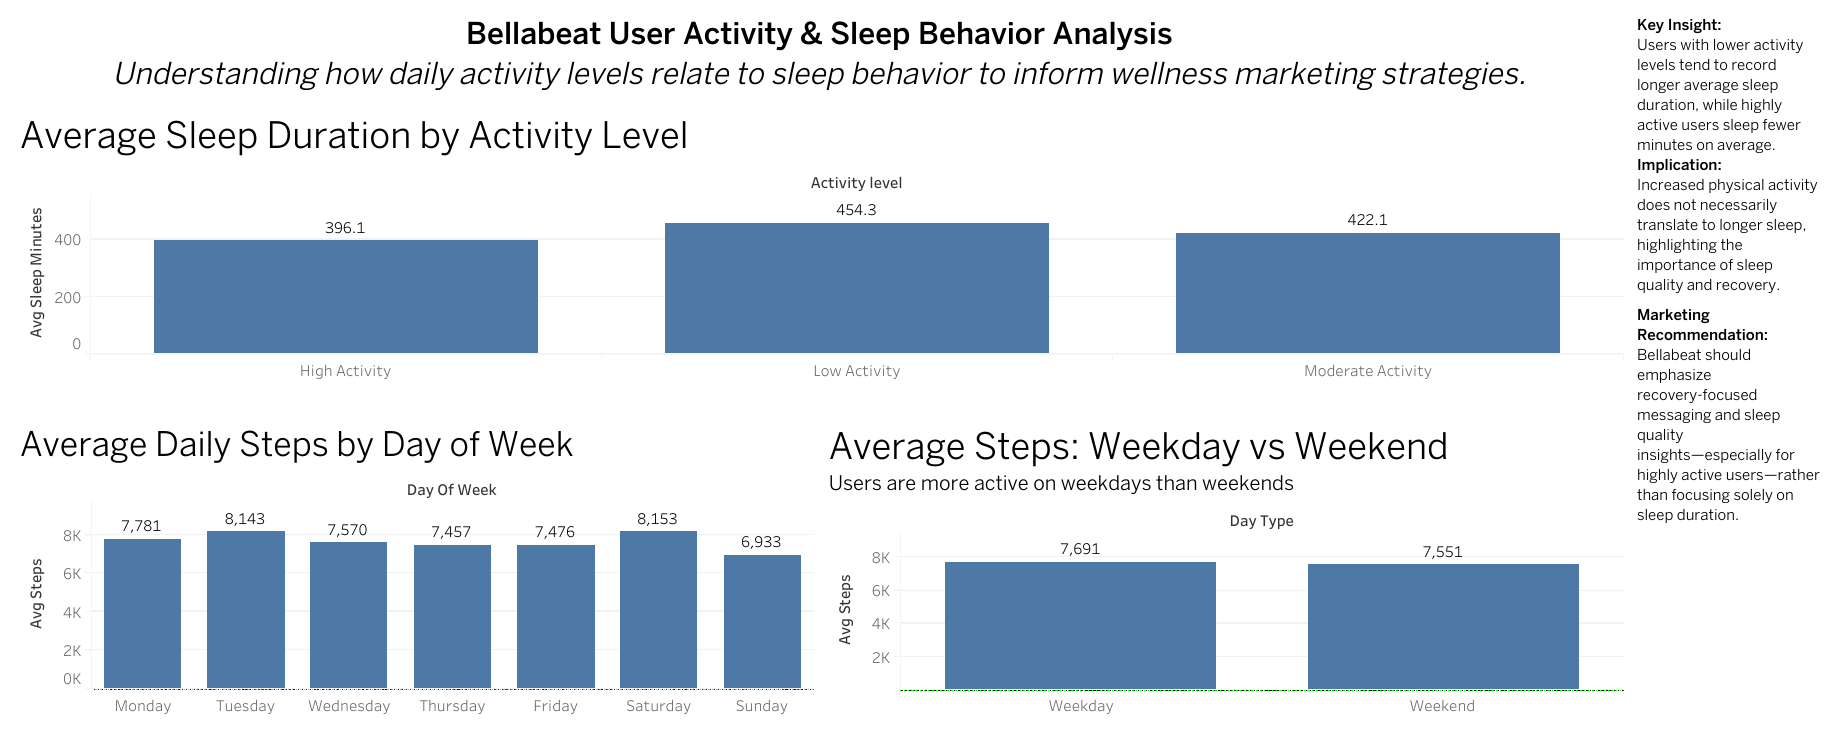

The page's visual inventory and layout, read from the dashboard file:
{"tool":"tableau","page":{"name":"Dashboard 1","canvas":[1000,1000],"units":"permille","ordinal":0},"visuals":[{"type":"title","box":[4.8,10,893.8,102.4]},{"type":"text","box":[898.6,10,96.6,410.7]},{"type":"worksheet","title":"Sheet 2","mark":"Automatic","rows":["avg_sleep_minutes"],"cols":["Activity_level"],"box":[4.8,112.4,893.8,438.8]},{"type":"text","box":[898.6,420.7,96.6,268.4]},{"type":"worksheet","title":"Sheet 3","mark":"Automatic","rows":["avg_steps"],"cols":["day_of_week"],"box":[4.8,551.1,446.9,438.9]},{"type":"worksheet","title":"Sheet 1","mark":"Automatic","rows":["avg_steps"],"cols":["day_type"],"box":[451.7,551.1,446.9,438.9]}]}

Visuals, with their boxes on the dashboard's canvas, which has no fixed pixel size, in thousandths of its width and height (x1, y1, x2, y2). These are canvas units, not pixel positions in the 1838x730 screenshot, which may show the page scaled, cropped or inside an application window:
title: detection(5, 10, 899, 112)
text: detection(899, 10, 995, 421)
"Sheet 2" worksheet: detection(5, 112, 899, 551)
text: detection(899, 421, 995, 689)
"Sheet 3" worksheet: detection(5, 551, 452, 990)
"Sheet 1" worksheet: detection(452, 551, 899, 990)
